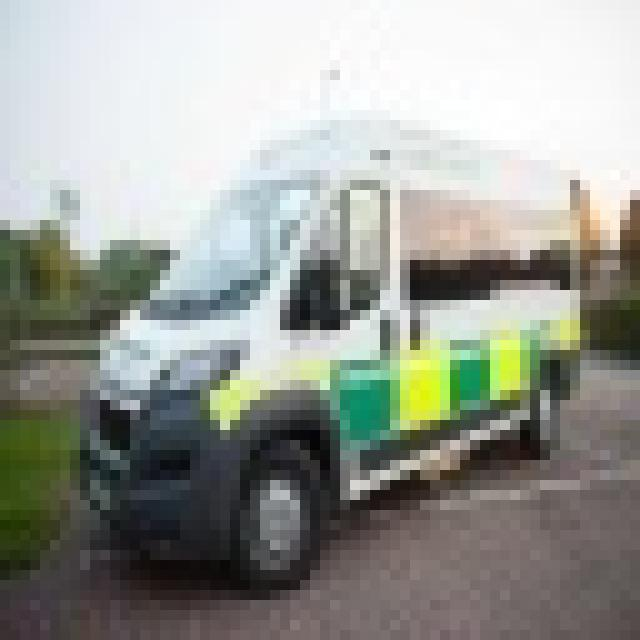Ambulance: (70, 100, 580, 580)
